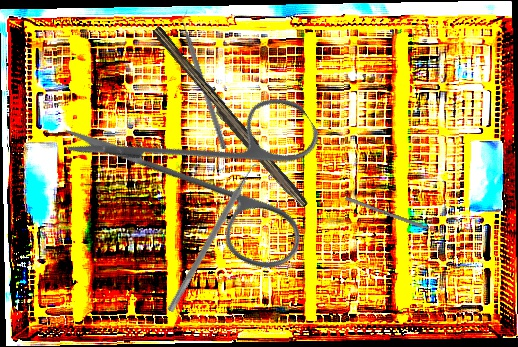Chopper: (177, 9, 234, 150)
Iris Scissors: (58, 15, 369, 329)
Pusher: (344, 196, 450, 238)
Scalpel Handle: (146, 25, 312, 212)
Spatula Surgical: (166, 156, 265, 316)
